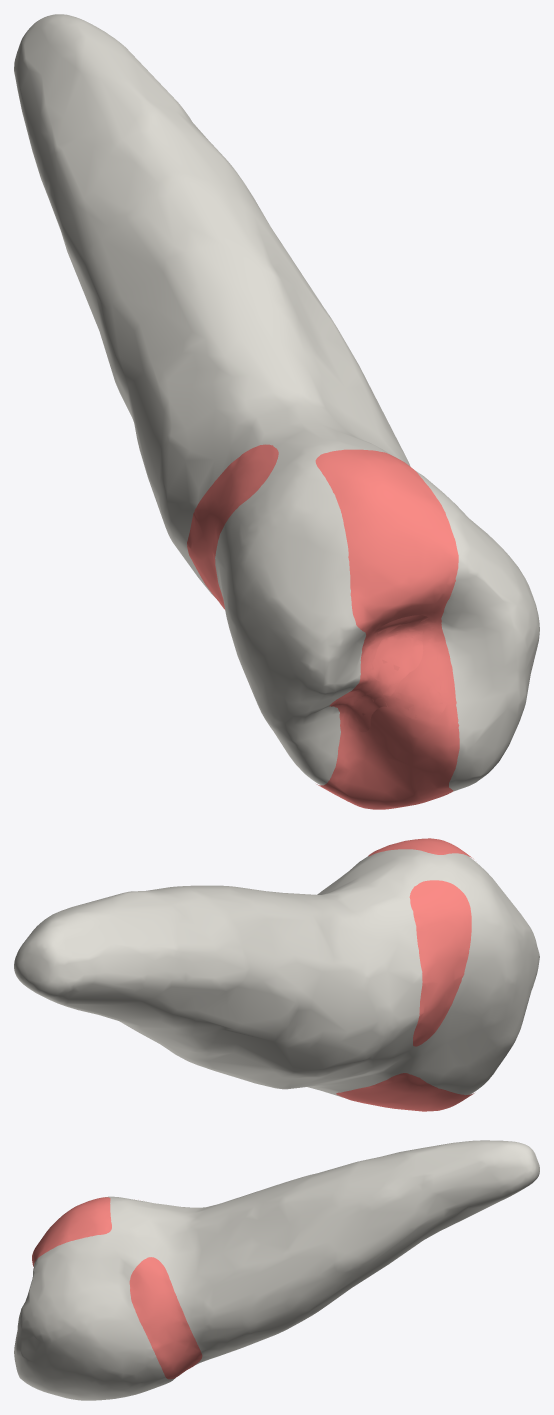
File: tooth_35_FMA55692.glb
3 views of the same model, one above another, from view 1: azimuth 30°, elevation 25°; view 2: azimuth 150°, elevation 25°; view 3: azimuth 270°, elevation 25° (orthographic). The views are drawn at different scales.
Visible parts, largest first — view 1: tooth_35, class2_distal, class2_mesial, class5_lingual, class1, class2_mesial_distal; view 2: tooth_35, class5_lingual, class2_mesial, class2_distal; view 3: tooth_35, class5_facial, class2_distal.
Part boxes in pixels (<box>): tooth_35: <box>14,14,539,791</box>; class2_distal: <box>315,449,458,721</box>; class2_mesial: <box>316,615,459,809</box>; class5_lingual: <box>187,444,278,609</box>; class1: <box>329,620,423,732</box>; class2_mesial_distal: <box>353,610,458,722</box>; tooth_35: <box>14,849,539,1097</box>; class5_lingual: <box>409,880,471,1046</box>; class2_mesial: <box>336,1073,474,1111</box>; class2_distal: <box>368,838,473,858</box>; tooth_35: <box>14,1140,539,1400</box>; class5_facial: <box>129,1257,202,1379</box>; class2_distal: <box>32,1197,111,1266</box>.
Size of the model in its own units: 7.7 by 12.63 by 22.08.
